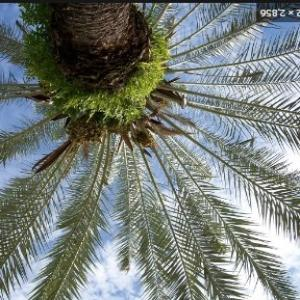palm tree: (0, 1, 299, 299)
